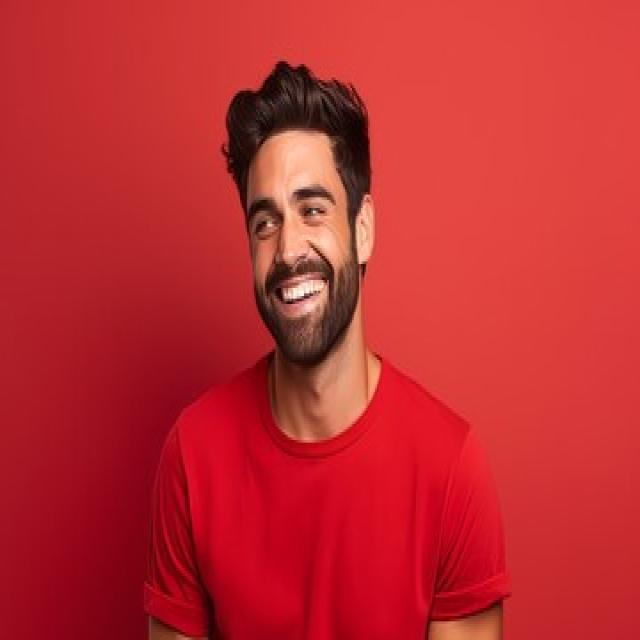Nonhelmet: (219, 56, 377, 365)
